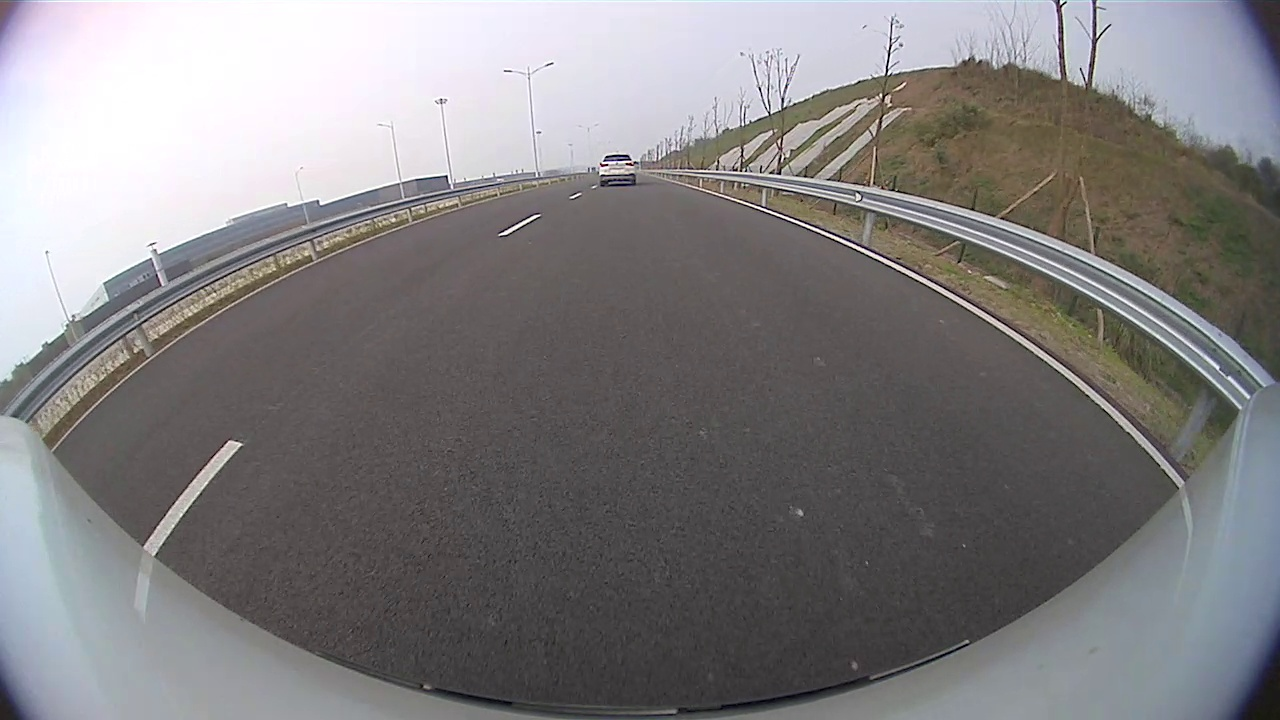car: (597, 152, 639, 187)
